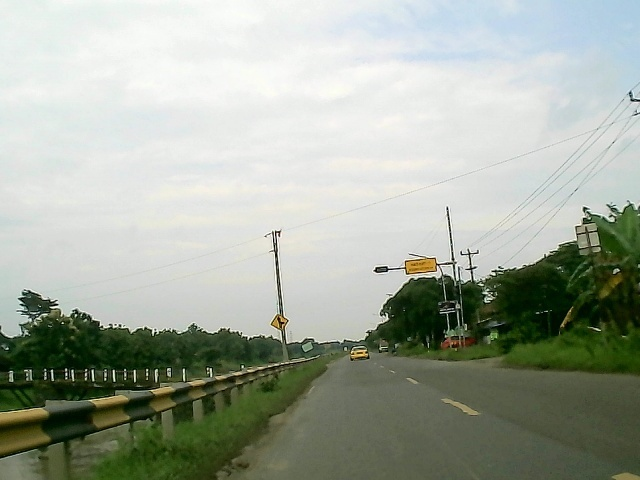Simpang kanan dengan prioritas: (270, 312, 289, 334)
